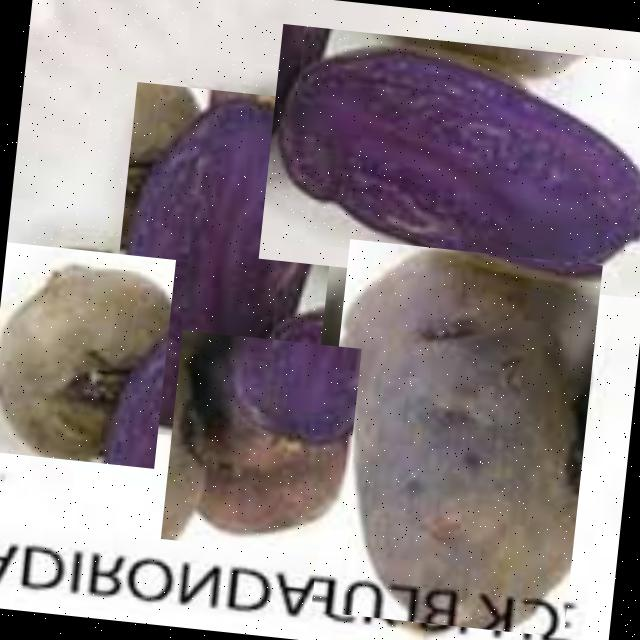Damaged potato: (310, 238, 602, 638), (160, 330, 362, 558), (0, 241, 175, 468)
Defected potato: (258, 23, 640, 298), (100, 82, 346, 450)
